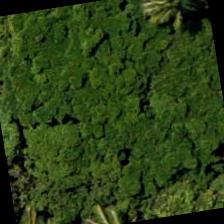Kelapa_Sawit: (123, 0, 215, 55)
